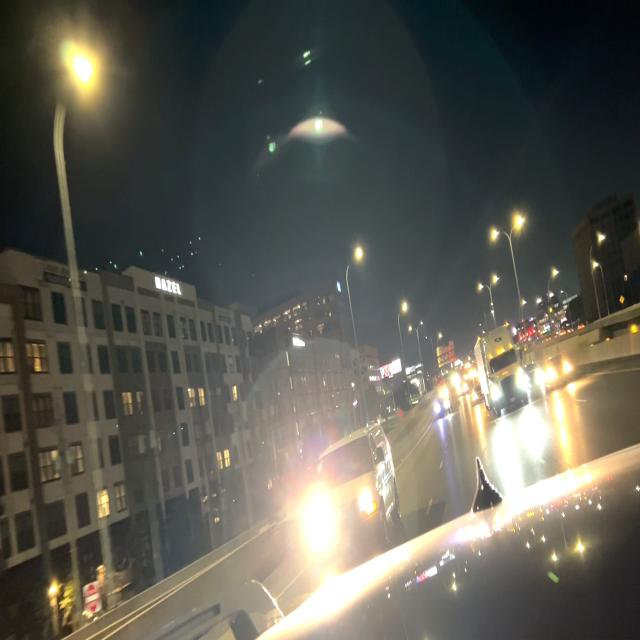back-of-sign: (437, 338, 456, 368)
